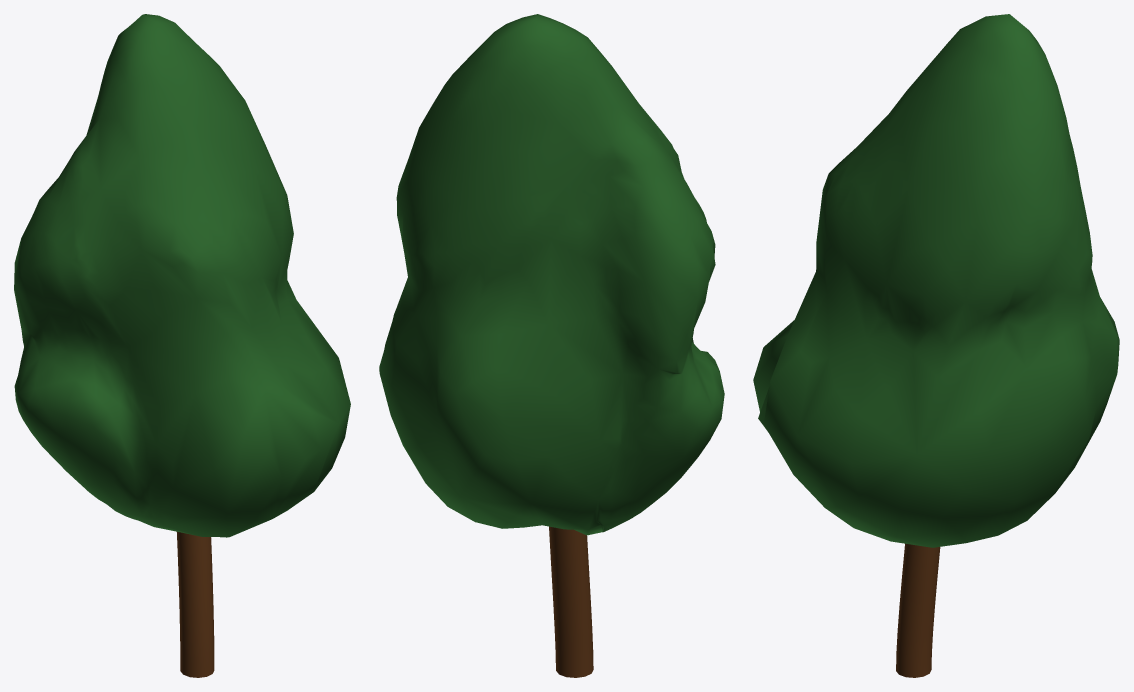
File: trees_Tree_03.fbx
3 views of the same model, side by side, from view 1: azimuth 30°, elevation 25°; view 2: azimuth 150°, elevation 25°; view 3: azimuth 270°, elevation 25° (orthographic). The views are drawn at different scales.
Visible parts, largest first — view 1: Icosphere.002, BezierCurve.001; view 2: Icosphere.002, BezierCurve.001; view 3: Icosphere.002, BezierCurve.001.
Boxes of the visible parts, x1,y1,x2,y2 form: Icosphere.002: (14, 14, 350, 537); BezierCurve.001: (177, 531, 214, 677); Icosphere.002: (379, 14, 724, 535); BezierCurve.001: (549, 526, 593, 677); Icosphere.002: (753, 14, 1119, 547); BezierCurve.001: (896, 543, 940, 677).
Bounding box in the file's own units: 5.39 × 10.91 × 5.56.
